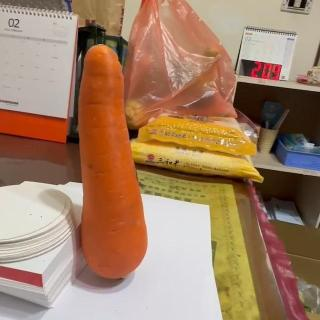carrot: (77, 46, 151, 284)
